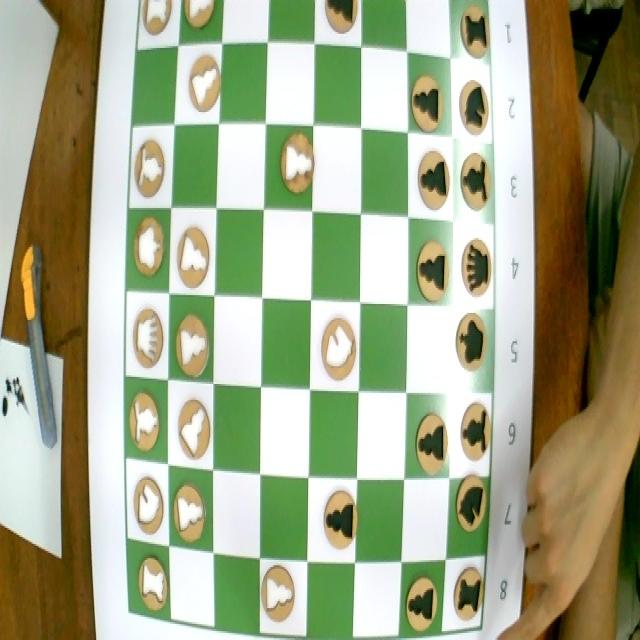chess-pieces: (173, 472, 219, 550), (409, 144, 454, 216), (318, 480, 362, 552), (172, 299, 210, 382), (131, 300, 169, 381), (455, 72, 496, 146), (169, 389, 210, 462), (458, 218, 494, 300), (415, 227, 451, 305), (130, 466, 166, 542), (457, 400, 493, 473), (127, 391, 164, 462), (134, 547, 169, 622), (403, 565, 438, 640), (321, 316, 357, 388), (273, 131, 318, 188), (174, 225, 210, 296), (260, 557, 296, 627), (449, 560, 488, 624), (415, 405, 450, 476), (132, 216, 166, 285), (459, 146, 492, 217), (455, 315, 488, 383), (184, 50, 224, 105), (134, 139, 168, 201), (458, 5, 492, 63), (410, 69, 444, 127), (455, 474, 487, 535), (318, 0, 360, 46), (179, 0, 221, 41), (142, 0, 178, 36)
